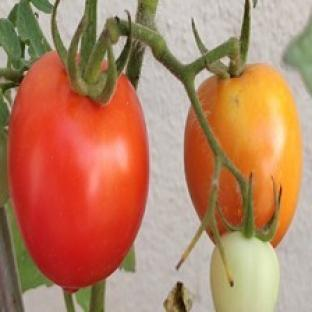Tomato: (9, 52, 149, 289), (198, 65, 302, 245), (211, 232, 279, 311), (0, 130, 8, 207)
